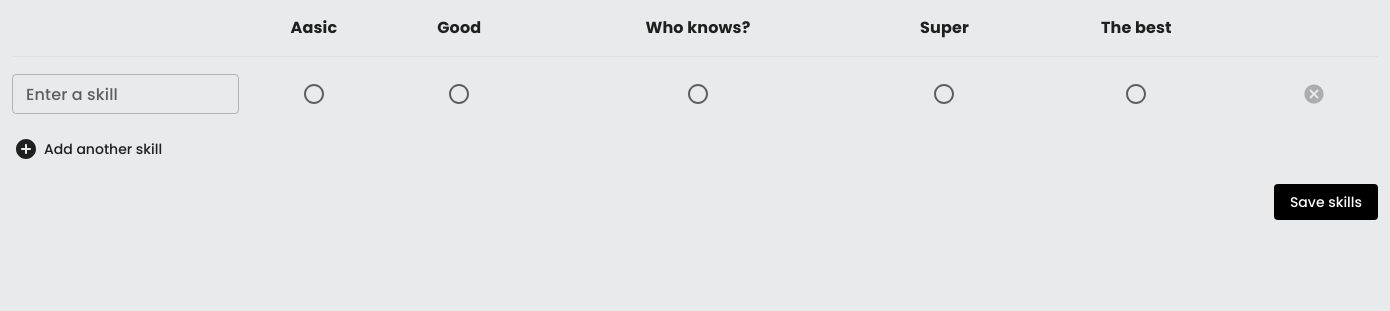
Scenario: SkillsAddForm › Sucessful data › first delete button is disabled
Expected: the text "Aasic" is shown, [290,16,337,39]
Expected: the button with test id "delete-0" is disabled, [1294,74,1334,114]
Click the button with test id "append" at (91, 149), box [12,131,170,168]
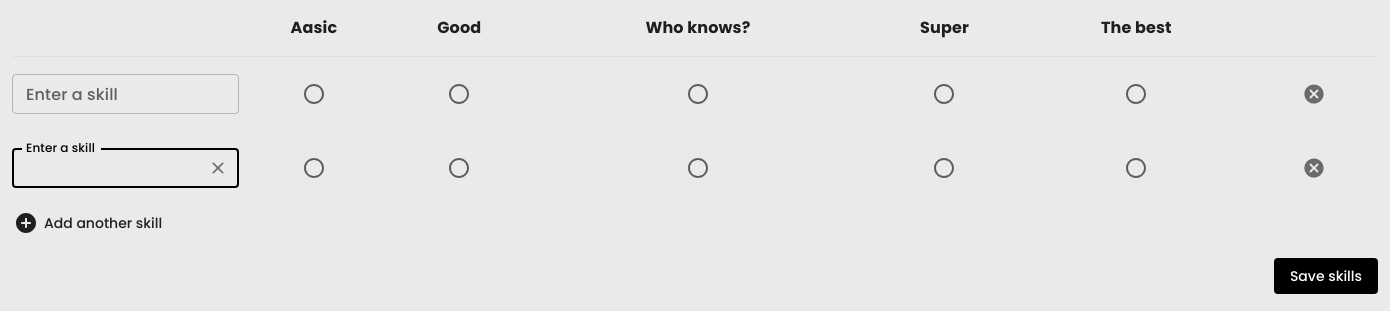
Now the button with test id "delete-0" is enabled, box [1294,74,1334,114]
Now the button with test id "delete-1" is enabled
Click the button with test id "delete-1" at (1314, 168), box [1294,148,1334,188]
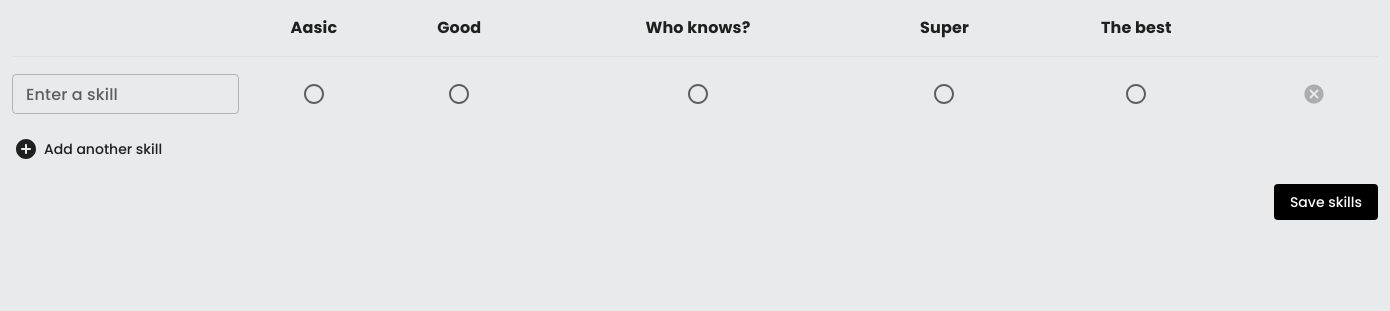
Now the button with test id "delete-0" is disabled, box [1294,74,1334,114]
